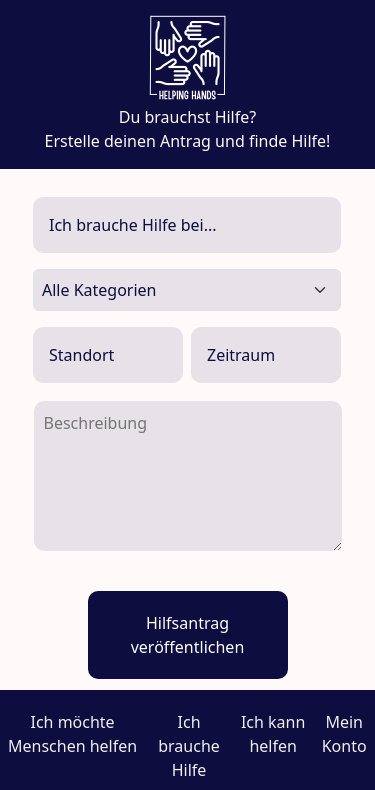
it: testing AnzeigeErstellen component › displays error popup when only the description field is filled
// Fülle nur das Beschreibung-Feld aus
Type "Ich brauche Hilfe in meinem Garten." into the text box with class "description-input" at (188, 476), box top-left (34, 401), bottom-right (342, 551)
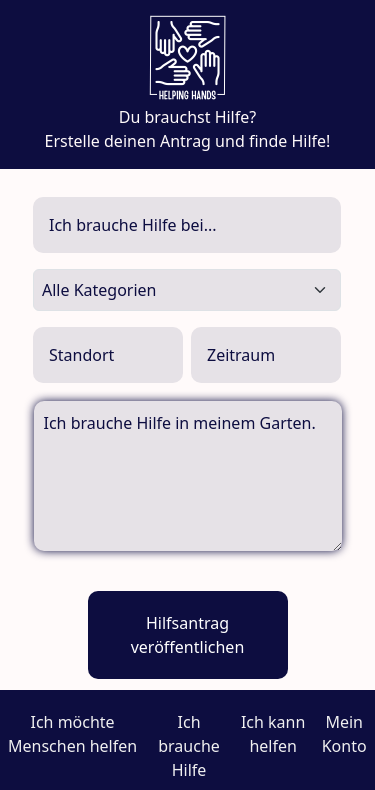
Click the button "Hilfsantrag veröffentlichen" at (188, 635), box top-left (88, 591), bottom-right (288, 679)
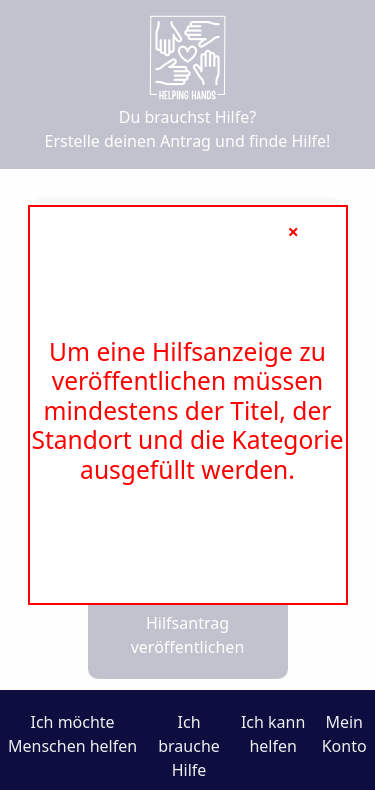
Result: the dialog is shown at top-left (28, 205), bottom-right (348, 605)
